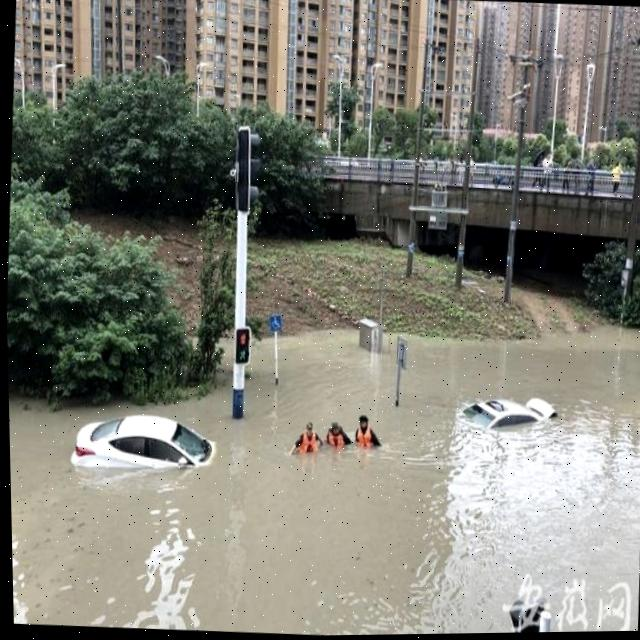rescuer: (352, 405, 386, 455), (316, 414, 356, 452), (286, 419, 325, 457)
